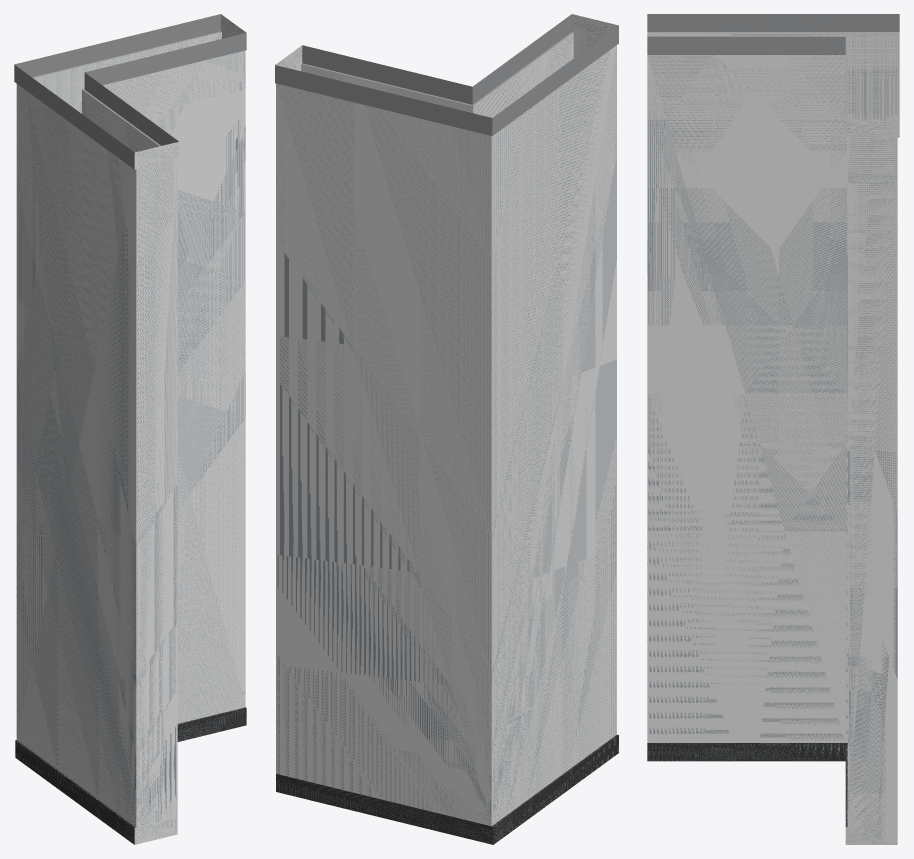
File: Corner_ds_plinth_100x100x025x4.dae
3 renders of one model, left to right at view 1: azimuth 30°, elevation 25°; view 2: azimuth 150°, elevation 25°; view 3: azimuth 270°, elevation 25°, orthographic. The views are drawn at different scales.
Visible parts, largest first — view 1: group_0 (×5); view 2: group_0 (×4); view 3: group_0 (×4).
Part boxes in pixels (left/top/right/bottom): group_0 (×5): left=14, top=14, right=246, bottom=844; group_0 (×4): left=275, top=14, right=618, bottom=844; group_0 (×4): left=647, top=14, right=899, bottom=844.
Size of the model in its own units: 49.21 by 49.61 by 157.
